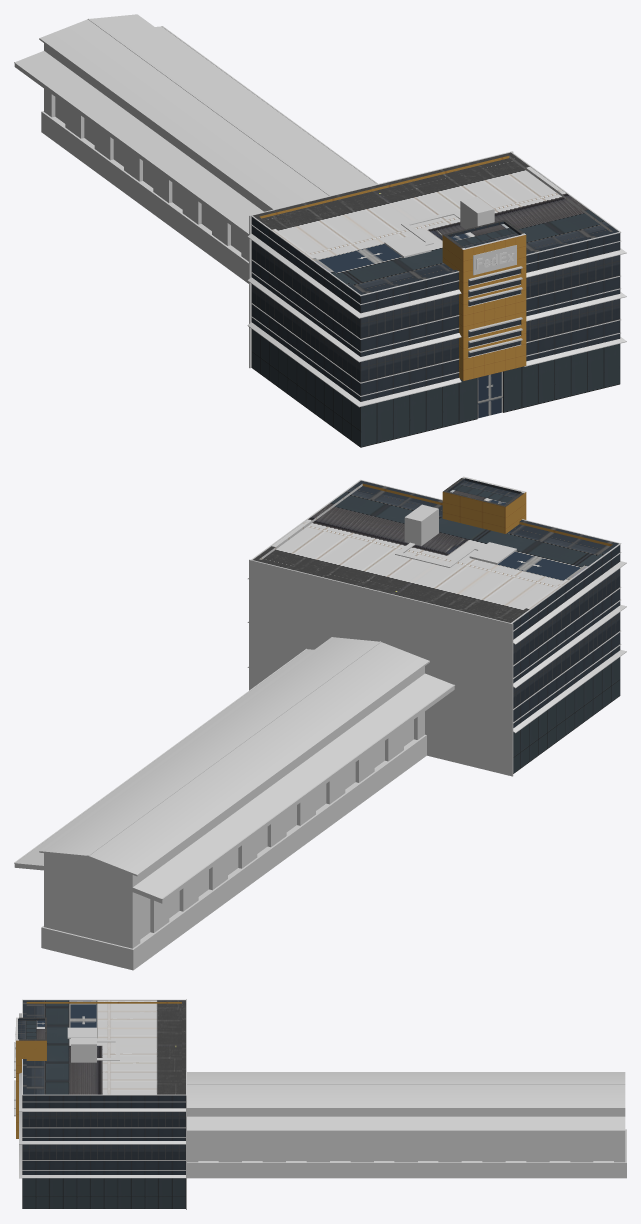
The model's file is LROP_FedEx_001.fbx.
The picture shows the model from 3 angles, top to bottom: view 1: azimuth 30°, elevation 25°; view 2: azimuth 150°, elevation 25°; view 3: azimuth 270°, elevation 25°; orthographic projection. The views are drawn at different scales.
Visible parts, largest first — view 1: Box001, Box006, Box009, Line007, Box003, Line009, Line006, Box010, Box007, Box005, Box013; view 2: Box006, Box001, Box007, Box009, Line007, Box003, Line009, Box010; view 3: Box006, Box001, Box009, Line007, Box003, Line009, Box010, Box013.
Part boxes in pixels (x1,y1,x2,y2): Box001: [251, 152, 620, 447]; Box006: [39, 14, 370, 283]; Box009: [14, 26, 376, 237]; Line007: [247, 152, 626, 407]; Box003: [442, 219, 526, 380]; Line009: [14, 18, 378, 234]; Line006: [468, 266, 522, 352]; Box010: [460, 196, 494, 229]; Box007: [249, 151, 513, 368]; Box005: [473, 245, 516, 275]; Box013: [384, 235, 431, 257]; Box006: [39, 637, 429, 970]; Box001: [253, 481, 620, 773]; Box007: [249, 559, 513, 776]; Box009: [14, 649, 454, 903]; Line007: [247, 479, 626, 733]; Box003: [442, 476, 526, 533]; Line009: [14, 641, 455, 899]; Box010: [404, 504, 438, 545]; Box006: [187, 1072, 626, 1178]; Box001: [22, 1000, 185, 1208]; Box009: [187, 1116, 625, 1133]; Line007: [19, 999, 185, 1178]; Box003: [16, 1017, 46, 1138]; Line009: [187, 1084, 625, 1130]; Box010: [71, 1038, 96, 1062]; Box013: [67, 1027, 96, 1038].
Size of what is drawn, in the model's own units: 22.7 by 14.31 by 59.98.
Materials: 1 (1 with a texture image).
